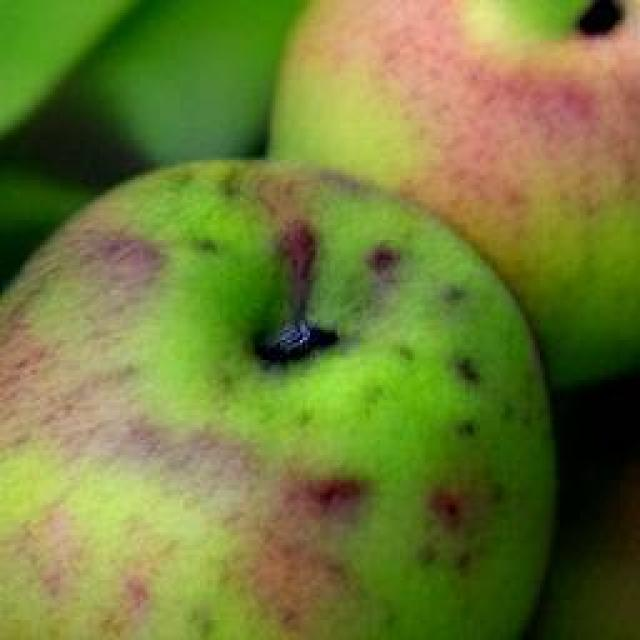defective: (0, 152, 560, 638)
